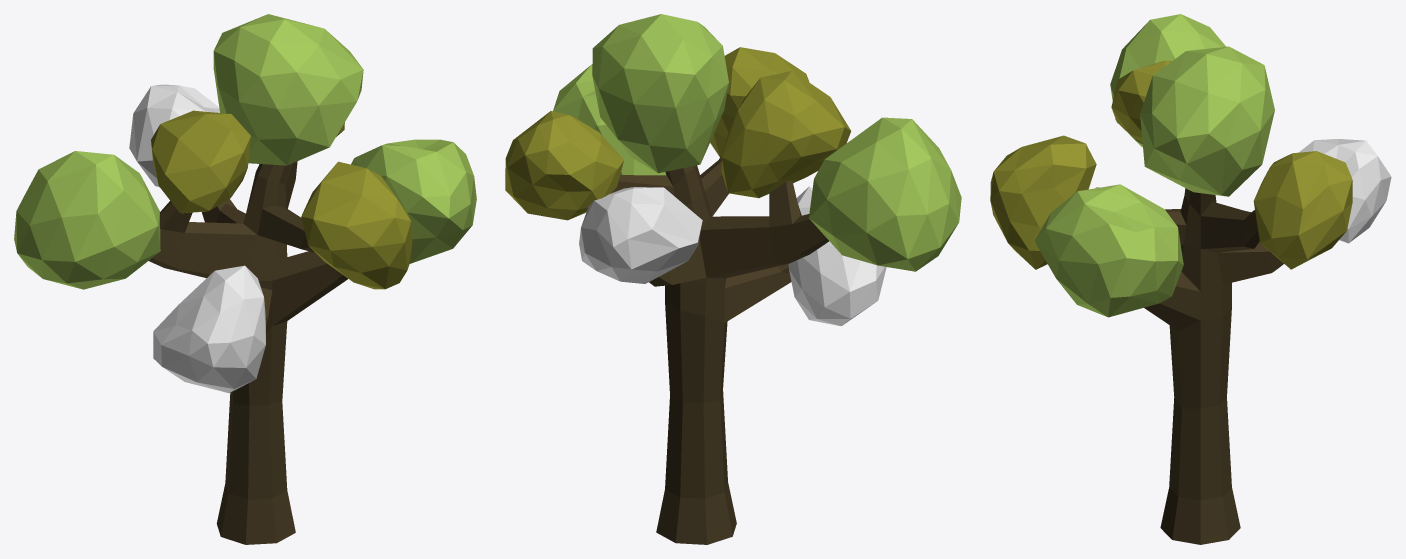
File: Tree.fbx
The picture shows the model from 3 angles, left to right: view 1: azimuth 30°, elevation 25°; view 2: azimuth 150°, elevation 25°; view 3: azimuth 270°, elevation 25°; orthographic projection. The views are drawn at different scales.
Parts seen in each view (by area): view 1: Tree; view 2: Tree; view 3: Tree.
Boxes of the visible parts, x1,y1,x2,y2 form: Tree: (14,14,476,544); Tree: (505,14,961,544); Tree: (990,14,1391,544).
Size of the model in its own units: 340 by 392 by 291.
